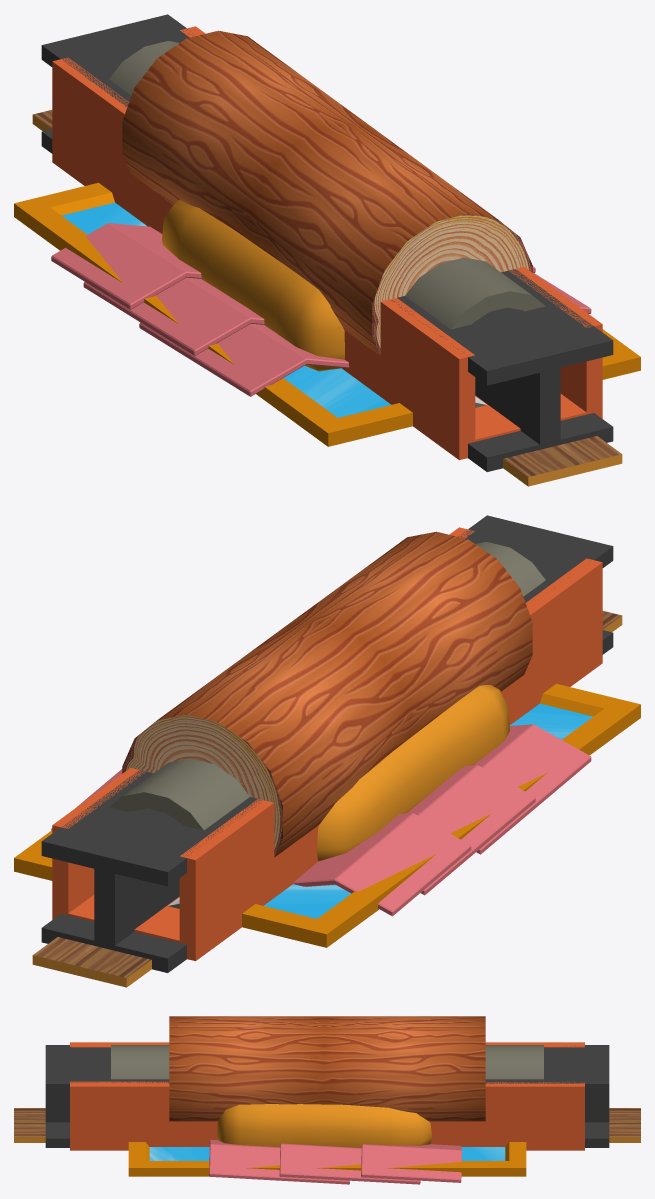
The model's file is models1.fbx.
3 views of the same model, one above another, from view 1: azimuth 30°, elevation 25°; view 2: azimuth 150°, elevation 25°; view 3: azimuth 270°, elevation 25° (orthographic). The views are drawn at different scales.
Visible parts, largest first — view 1: Wood_Cylinder, Iron_1, Iron_2, Tile, Window, Sand, Cylinder, Wood_3; view 2: Wood_Cylinder, Iron_1, Iron_2, Tile, Window, Sand, Cylinder, Wood_3; view 3: Wood_Cylinder, Iron_1, Tile, Iron_2, Sand, Window, Cylinder, Wood_3.
Boxes of the visible parts, x1,y1,x2,y2 form: Wood_Cylinder: (122, 30, 532, 356); Iron_1: (52, 26, 602, 460); Iron_2: (41, 14, 613, 471); Tile: (51, 223, 591, 396); Window: (14, 182, 640, 446); Sand: (162, 199, 344, 371); Cylinder: (109, 41, 545, 407); Wood_3: (32, 110, 622, 486); Wood_Cylinder: (122, 531, 532, 857); Iron_1: (52, 527, 602, 961); Iron_2: (41, 515, 613, 972); Tile: (51, 724, 591, 916); Window: (14, 683, 640, 947); Sand: (316, 685, 509, 861); Cylinder: (109, 542, 545, 908); Wood_3: (32, 611, 622, 987); Wood_Cylinder: (169, 1016, 485, 1121); Iron_1: (70, 1042, 584, 1150); Tile: (209, 1139, 461, 1184); Iron_2: (45, 1045, 609, 1147); Sand: (217, 1104, 431, 1147); Window: (128, 1142, 526, 1176); Cylinder: (111, 1045, 543, 1079); Wood_3: (14, 1108, 640, 1142).
Size of the model in its own units: 3.54 by 1.72 by 8.89.
